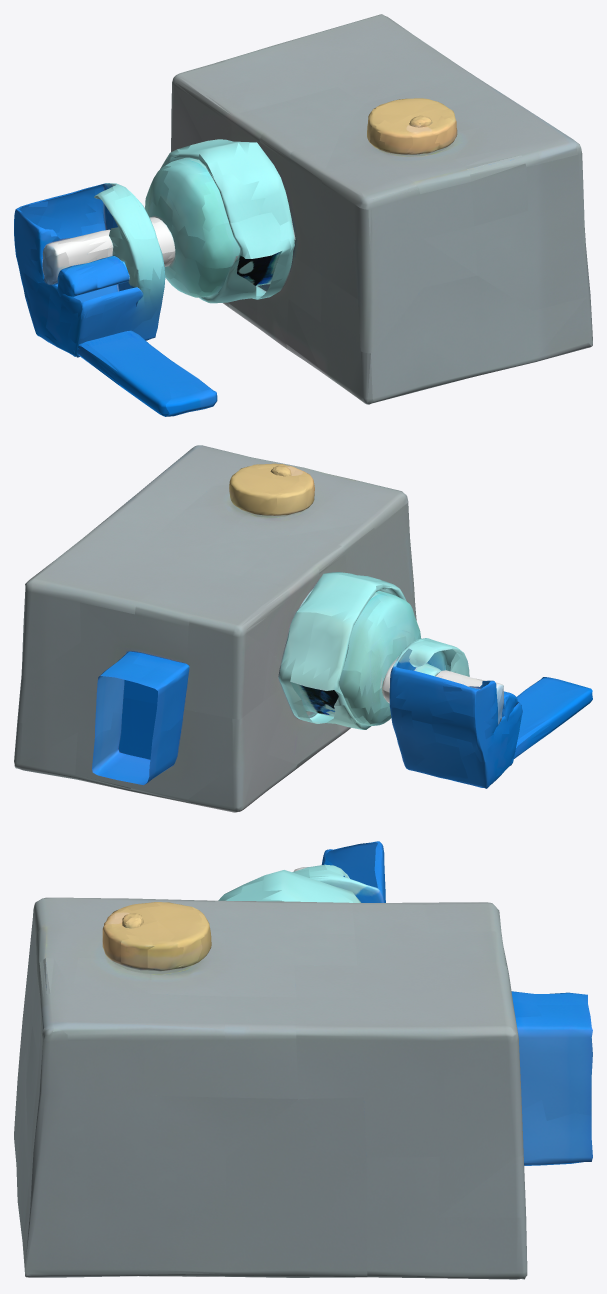
Rendered from hydro-power.glb.
3 renders of one model, top to bottom at view 1: azimuth 30°, elevation 25°; view 2: azimuth 150°, elevation 25°; view 3: azimuth 270°, elevation 25°, orthographic. The views are drawn at different scales.
Size of the model in its own units: 1 by 0.5156 by 0.9297.
Materials: 1 (1 with a texture image).
